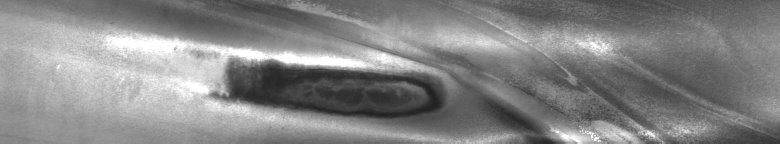ke: (196, 8, 440, 120)
